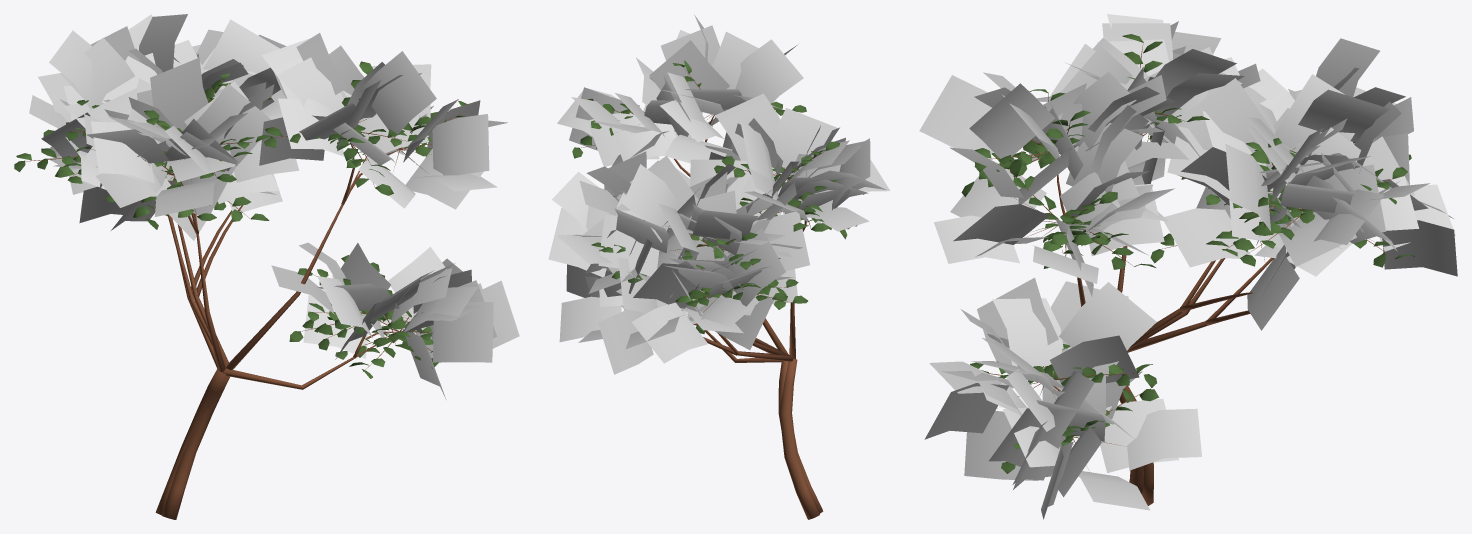
The model's file is Arbousier_Incline_LOD0.fbx.
The picture shows the model from 3 angles, left to right: view 1: azimuth 30°, elevation 25°; view 2: azimuth 150°, elevation 25°; view 3: azimuth 270°, elevation 25°; orthographic projection. The views are drawn at different scales.
Parts seen in each view (by area): view 1: Arbousier_Incline; view 2: Arbousier_Incline; view 3: Arbousier_Incline.
Part boxes in pixels (x1,y1,x2,y2): Arbousier_Incline: (14,14,519,519); Arbousier_Incline: (548,15,890,519); Arbousier_Incline: (919,14,1457,519).
Bounding box in the file's own units: 337 × 388 × 362.
